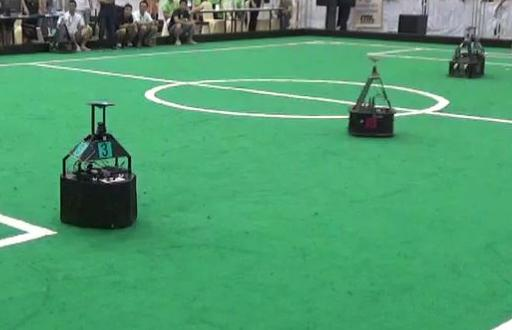robot: (53, 102, 141, 229), (346, 54, 398, 138), (445, 23, 489, 77)
